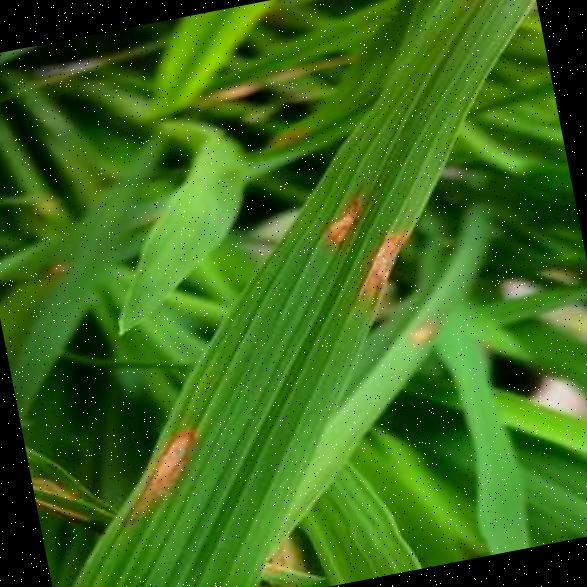Leaf_smut: (55, 398, 241, 536), (270, 165, 382, 255), (332, 216, 434, 313)
